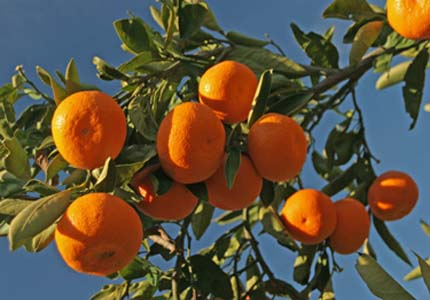portakal: (40, 189, 147, 282), (46, 77, 139, 181), (367, 159, 430, 243)
